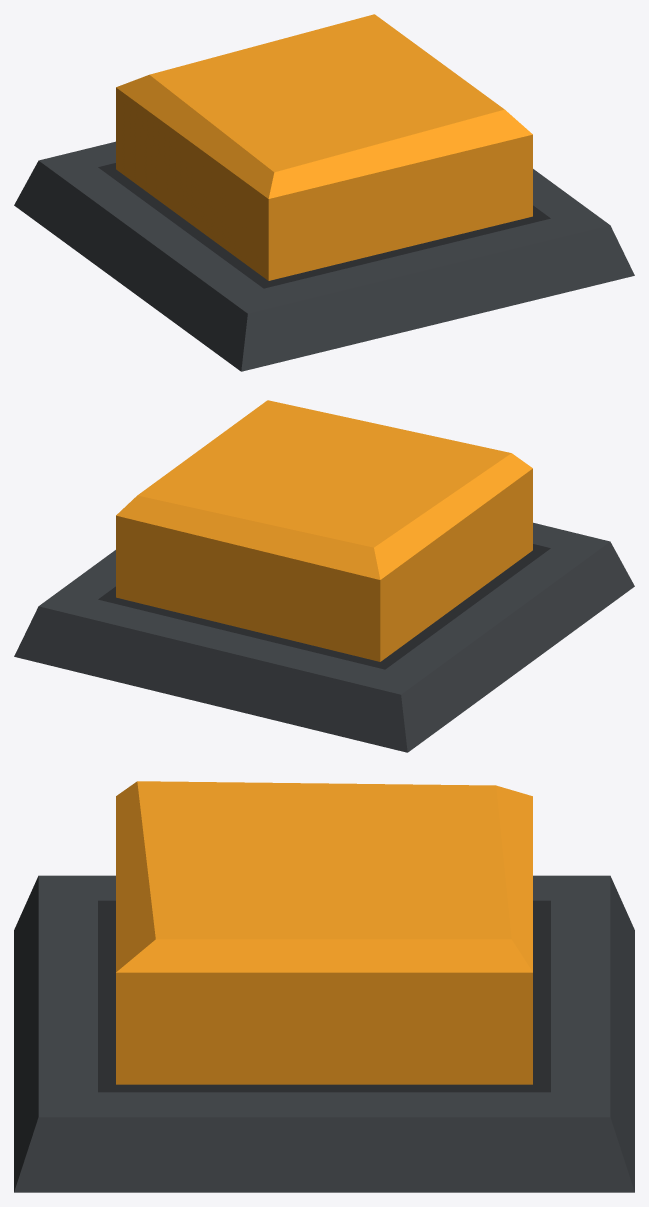
File: SM_Switch_Button_02.fbx
The picture shows the model from 3 angles, top to bottom: view 1: azimuth 30°, elevation 25°; view 2: azimuth 150°, elevation 25°; view 3: azimuth 270°, elevation 25°; orthographic projection. The views are drawn at different scales.
Visible parts, largest first — view 1: SM_Switch_Button_Button_02, SM_Switch_Button_02; view 2: SM_Switch_Button_Button_02, SM_Switch_Button_02; view 3: SM_Switch_Button_Button_02, SM_Switch_Button_02.
Part boxes in pixels (x1,y1,x2,y2): SM_Switch_Button_Button_02: [116, 14, 532, 280]; SM_Switch_Button_02: [14, 141, 634, 371]; SM_Switch_Button_Button_02: [116, 400, 532, 661]; SM_Switch_Button_02: [14, 522, 634, 752]; SM_Switch_Button_Button_02: [116, 781, 532, 1084]; SM_Switch_Button_02: [14, 875, 634, 1192].
Bounding box in the file's own units: 9.17 × 3.28 × 9.17.
